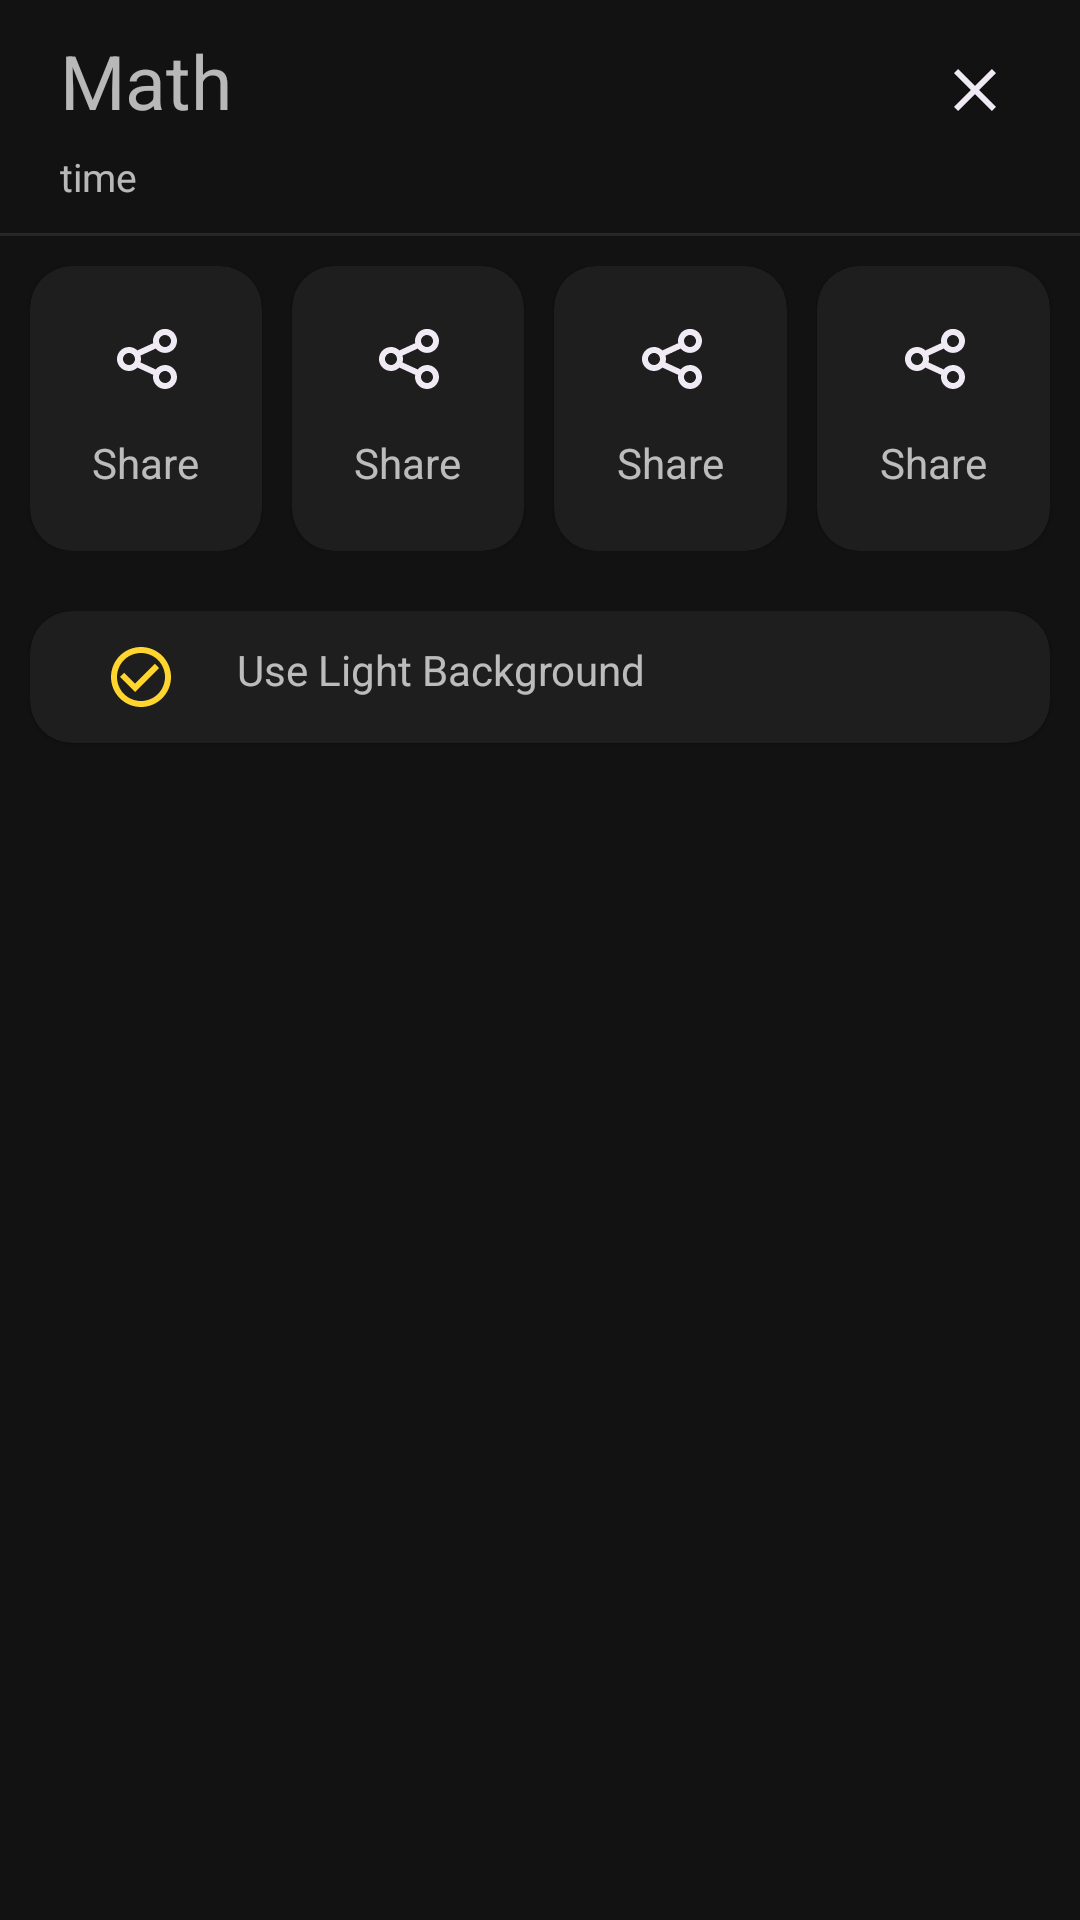

Where to tap for icons on this 1080 x 1920 app screen, as (x,y):
check circle: (141,677)
close: (975,90)
